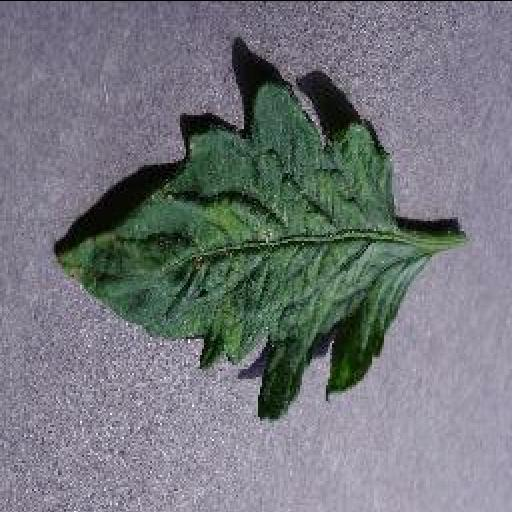Mosaic Virus: (46, 78, 430, 422)
